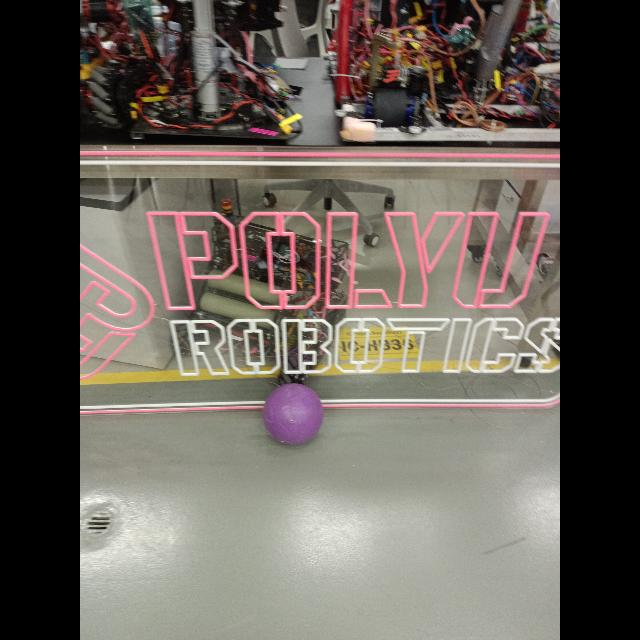P: (260, 378, 326, 446)
